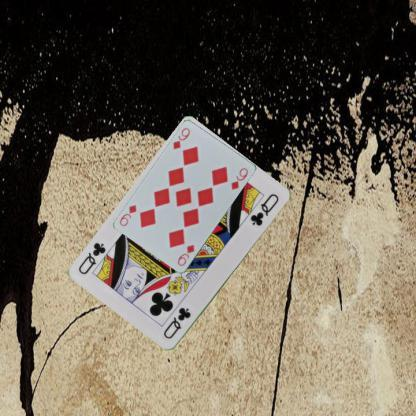9d: (170, 126, 192, 150), (175, 243, 196, 268)
Qc: (160, 305, 192, 341)
